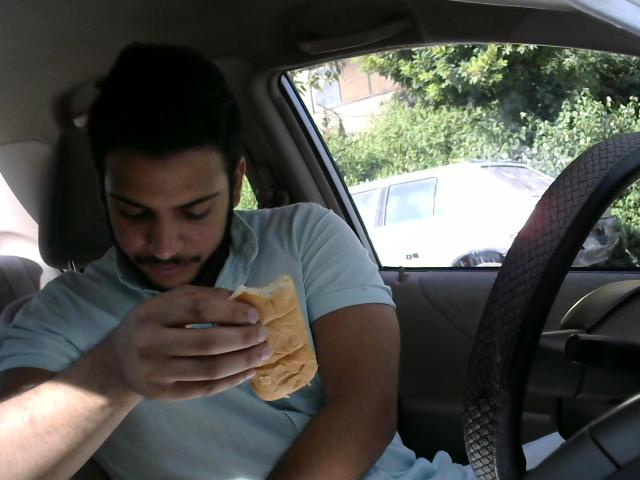Eating: (216, 267, 314, 394)
